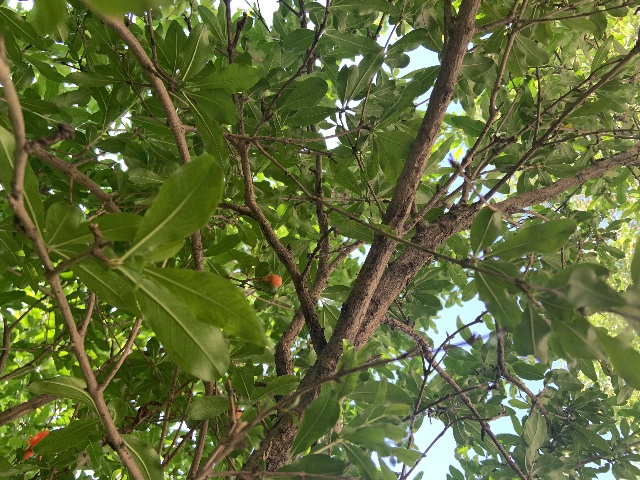bud: (260, 273, 282, 287), (228, 405, 241, 419)
flower: (22, 430, 48, 462)
